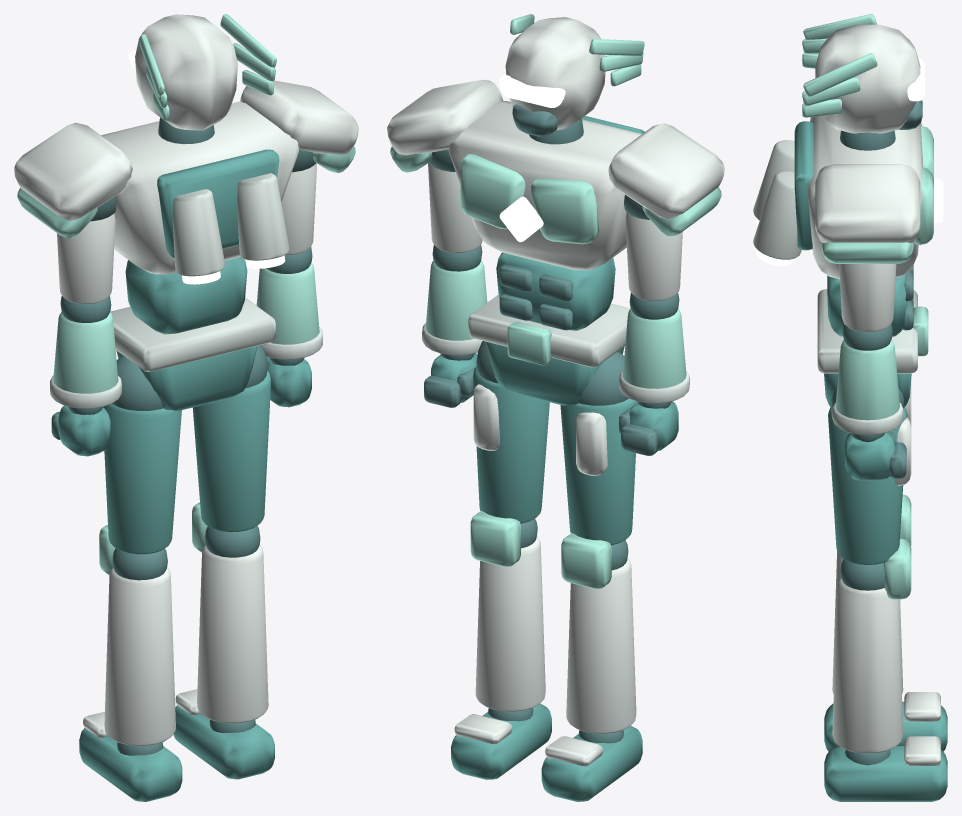
File: gale.glb
3 renders of one model, left to right at view 1: azimuth 30°, elevation 25°; view 2: azimuth 150°, elevation 25°; view 3: azimuth 270°, elevation 25°, orthographic. The views are drawn at different scales.
Parts seen in each view (by area): view 1: chest, upper_arm_l, shin_l, shin_r, head, thigh_l, hips, thigh_r, upper_arm_r, lower_arm_l, abdomen, lower_arm_r (+4 smaller); view 2: chest, shin_l, shin_r, upper_arm_l, head, thigh_l, hips, thigh_r, upper_arm_r, abdomen, lower_arm_l, foot_l (+4 smaller); view 3: chest, upper_arm_r, shin_r, head, thigh_r, foot_r, lower_arm_r, hips, hand_r, foot_l, abdomen, shin_l.
Part boxes in pixels (x1,y1,x2,y2): chest: (101,101,299,284); upper_arm_l: (14,122,132,303); shin_l: (99,525,175,745); shin_r: (192,502,268,723); head: (128,14,276,130); thigh_l: (103,356,181,554); hips: (110,297,275,410); thigh_r: (193,345,270,532); upper_arm_r: (240,80,358,254); lower_arm_l: (50,296,121,408); abdomen: (125,257,247,334); lower_arm_r: (256,247,322,359); chest: (448,101,644,270); shin_l: (561,533,636,733); shin_r: (470,511,545,711); upper_arm_l: (608,123,724,300); head: (498,14,644,136); thigh_l: (560,352,637,545); hips: (468,294,630,405); thigh_r: (473,341,549,523); upper_arm_r: (387,79,503,252); abdomen: (496,252,615,330); lower_arm_l: (619,293,689,403); foot_l: (541,726,642,801); chest: (753,115,943,279); upper_arm_r: (815,164,920,332); shin_r: (832,538,911,753); head: (802,14,924,133); thigh_r: (828,388,911,564); foot_r: (824,736,947,801); lower_arm_r: (832,324,903,434); hips: (817,289,928,407); hand_r: (845,431,906,480); foot_l: (824,692,947,751); abdomen: (827,265,913,336); shin_l: (832,494,911,693).
Size of the model in its own units: 0.758 by 1.79 by 0.4258.
